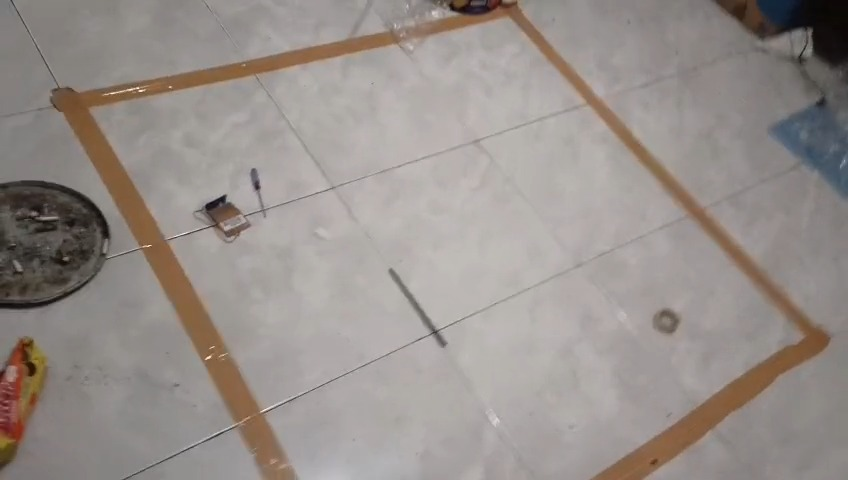floor marking: (425, 4, 829, 479), (52, 32, 394, 479)
